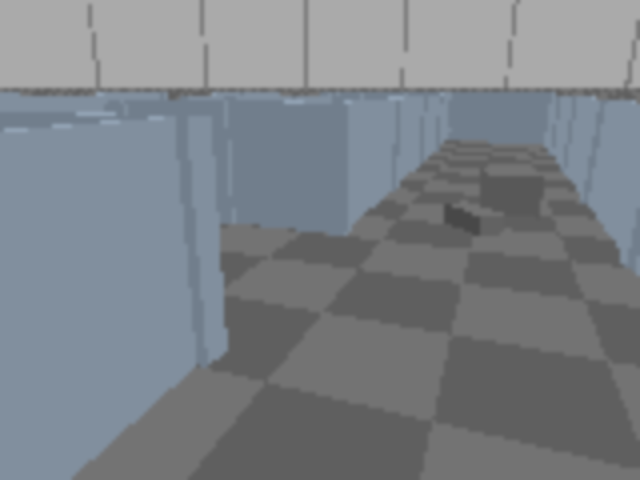obstacle: (478, 169, 545, 218), (444, 201, 504, 237)
